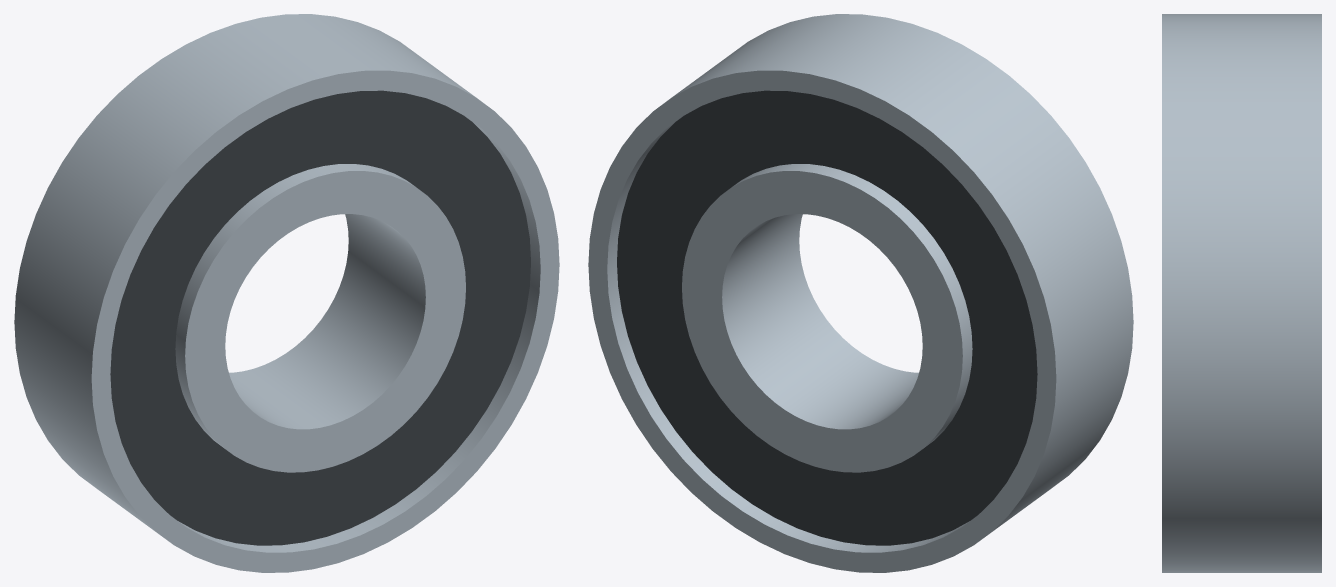
3 renders of one model, left to right at view 1: azimuth 30°, elevation 25°; view 2: azimuth 150°, elevation 25°; view 3: azimuth 270°, elevation 25°, orthographic. The views are drawn at different scales.
Parts seen in each view (by area): view 1: mesh3464, mesh3460, mesh3453, mesh3461, mesh3454, mesh3463, mesh3462; view 2: mesh3457, mesh3460, mesh3455, mesh3459, mesh3454, mesh3458, mesh3456; view 3: mesh3460.
Boxes of the visible parts, x1,y1,x2,y2 form: mesh3464: (110, 90, 530, 545); mesh3460: (14, 14, 474, 537); mesh3453: (185, 171, 465, 472); mesh3461: (91, 70, 559, 572); mesh3454: (229, 214, 425, 429); mesh3463: (178, 117, 540, 552); mesh3462: (175, 164, 415, 448); mesh3457: (617, 90, 1037, 545); mesh3460: (673, 14, 1133, 537); mesh3455: (682, 171, 962, 472); mesh3459: (588, 70, 1056, 572); mesh3454: (722, 214, 918, 429); mesh3458: (607, 117, 969, 552); mesh3456: (732, 164, 972, 448); mesh3460: (1162, 14, 1321, 572).
Bounding box in the file's own units: 0.028 × 0.028 × 0.008.
